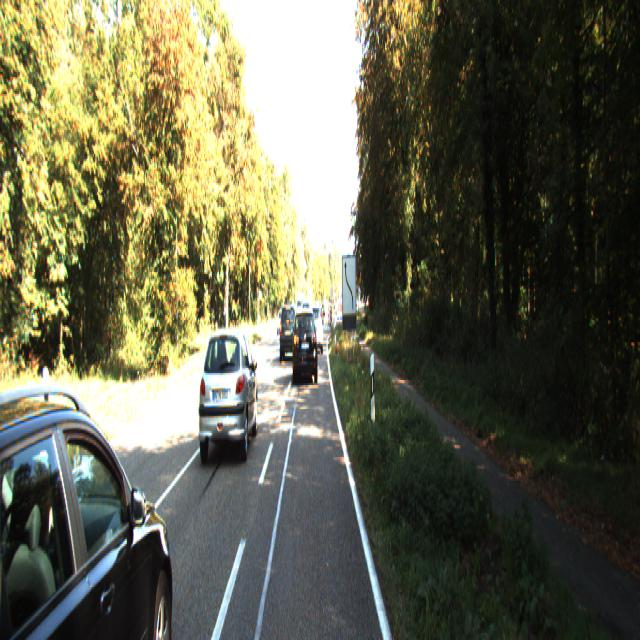Car: (196, 321, 258, 463), (292, 306, 317, 384), (278, 301, 298, 358), (309, 303, 323, 349)
